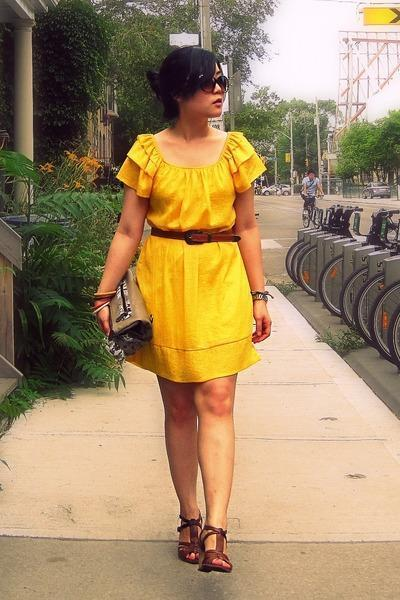bag: (93, 276, 152, 361)
dress: (116, 132, 266, 381)
shoe: (175, 501, 232, 572)
sunglass: (197, 65, 227, 94)
